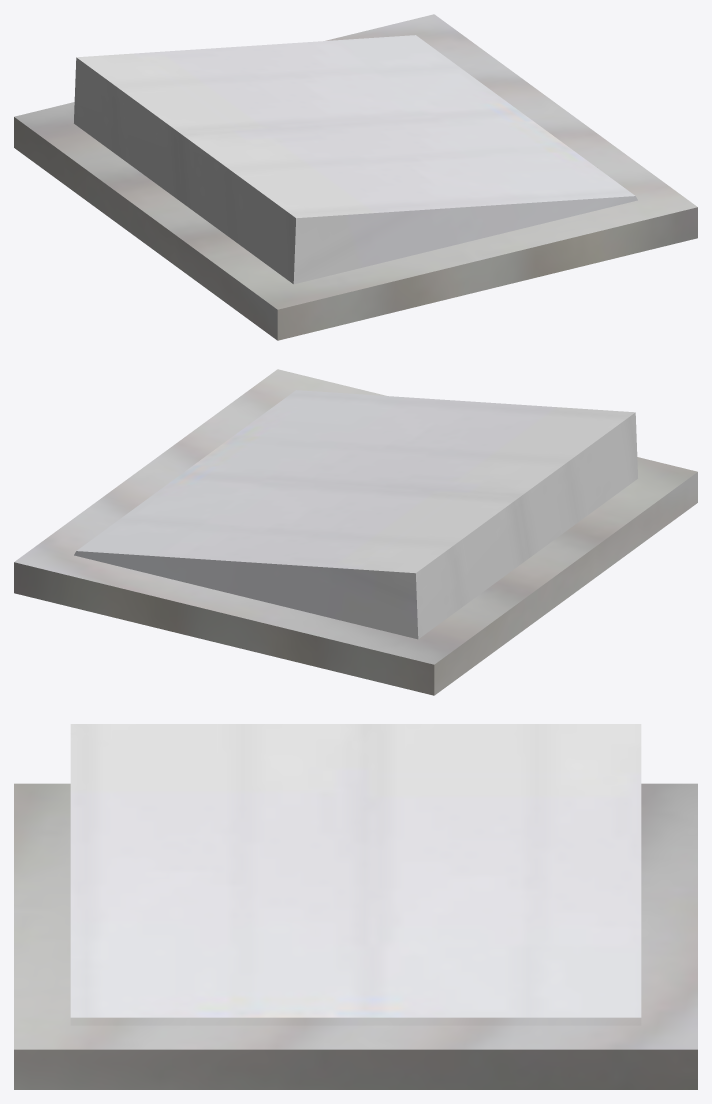
The model's file is switch.FBX.
The picture shows the model from 3 angles, top to bottom: view 1: azimuth 30°, elevation 25°; view 2: azimuth 150°, elevation 25°; view 3: azimuth 270°, elevation 25°; orthographic projection. The views are drawn at different scales.
Visible parts, largest first — view 1: Object001, Box001; view 2: Object001, Box001; view 3: Object001, Box001.
Part boxes in pixels (box(x1,y1,x2,y2)): Object001: box(74, 35, 637, 284); Box001: box(14, 14, 697, 340); Object001: box(74, 390, 637, 639); Box001: box(14, 369, 697, 695); Object001: box(70, 724, 641, 1017); Box001: box(14, 783, 697, 1089).
Bounding box in the file's own units: 41.77 × 9.18 × 45.39.
2 materials, 2 textured.
